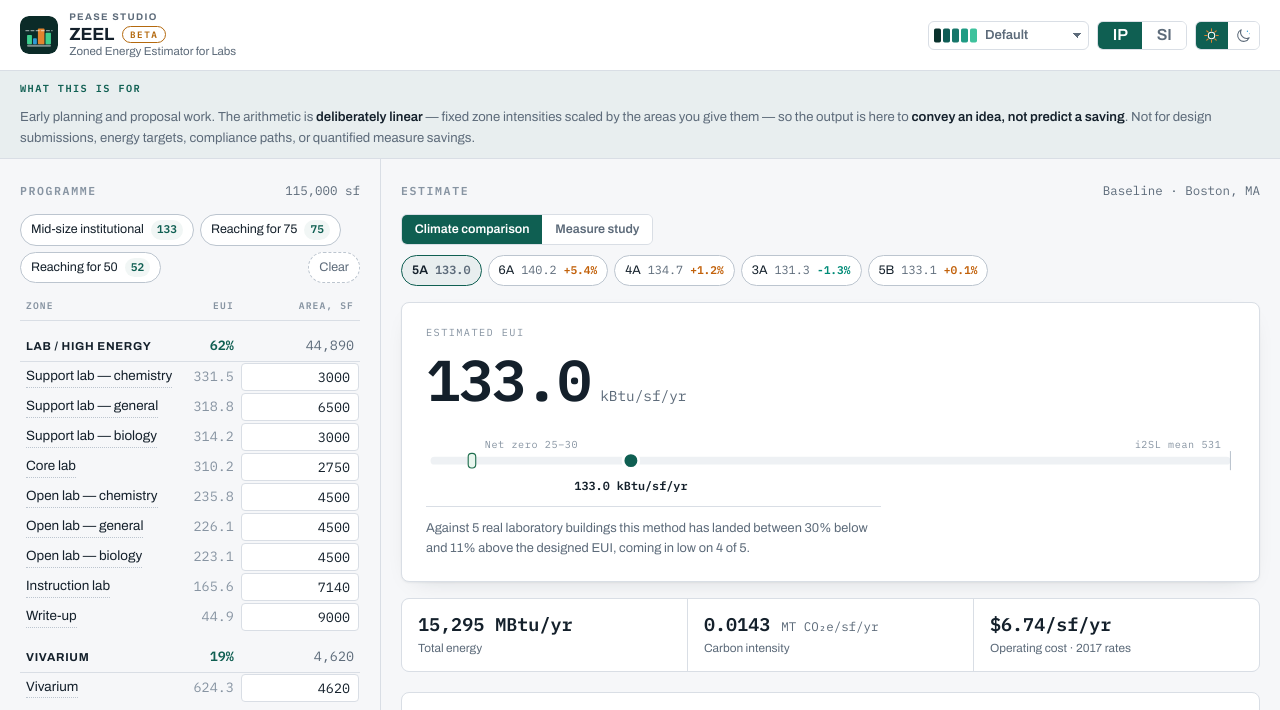
two studies, because the dataset has two shapes › says on the control that measures are 5A only, rather than greying one out
Click the button "Measure study" at (597, 230), box x1=542 y1=215 x2=652 y2=244
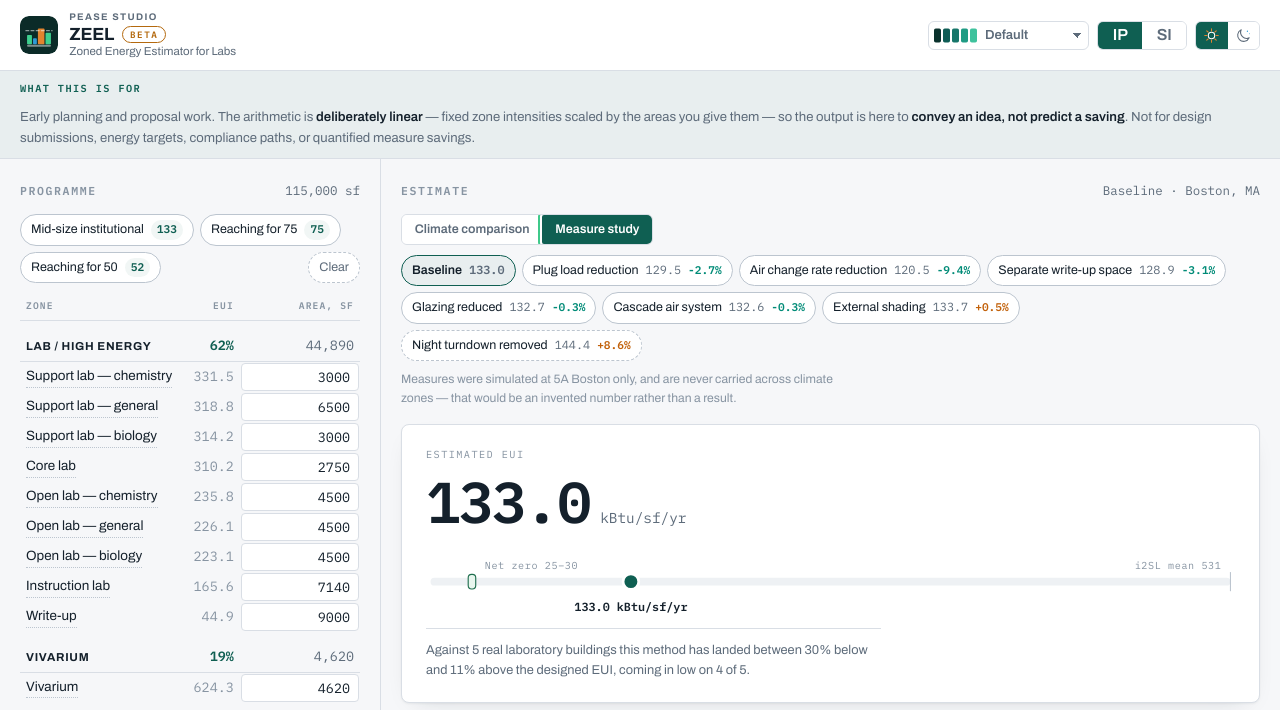
Expected: the text "simulated at 5A Boston only" shows "never carried across", x1=401 y1=372 x2=833 y2=405
